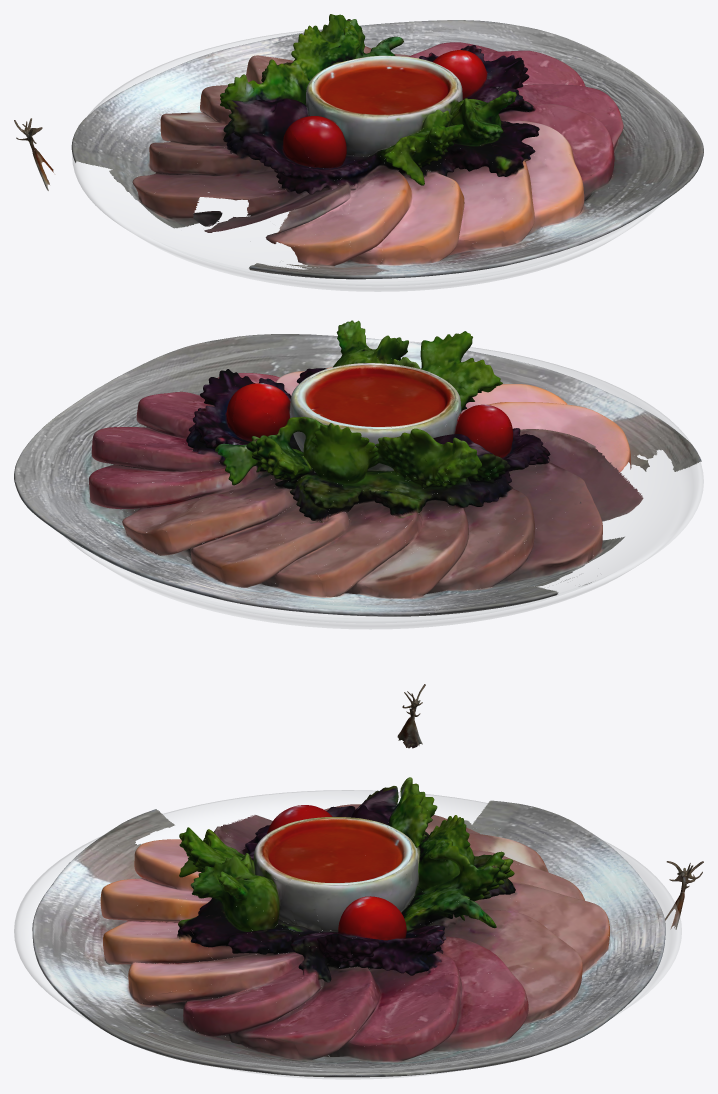
Rendered from myasnoy.glb.
3 renders of one model, top to bottom at view 1: azimuth 30°, elevation 25°; view 2: azimuth 150°, elevation 25°; view 3: azimuth 270°, elevation 25°, orthographic. The views are drawn at different scales.
Parts seen in each view (by area): view 1: kolbasa, tarelka; view 2: kolbasa, tarelka; view 3: kolbasa, tarelka.
Part boxes in pixels (box(x1,y1,x2,y2)): kolbasa: box(14, 14, 703, 279); tarelka: box(72, 29, 681, 291); kolbasa: box(14, 320, 701, 748); tarelka: box(39, 342, 703, 629); kolbasa: box(32, 777, 703, 1077); tarelka: box(14, 790, 681, 1079).
Size of the model in its own units: 0.9377 by 0.3163 by 0.9501.
2 materials, 1 textured.
